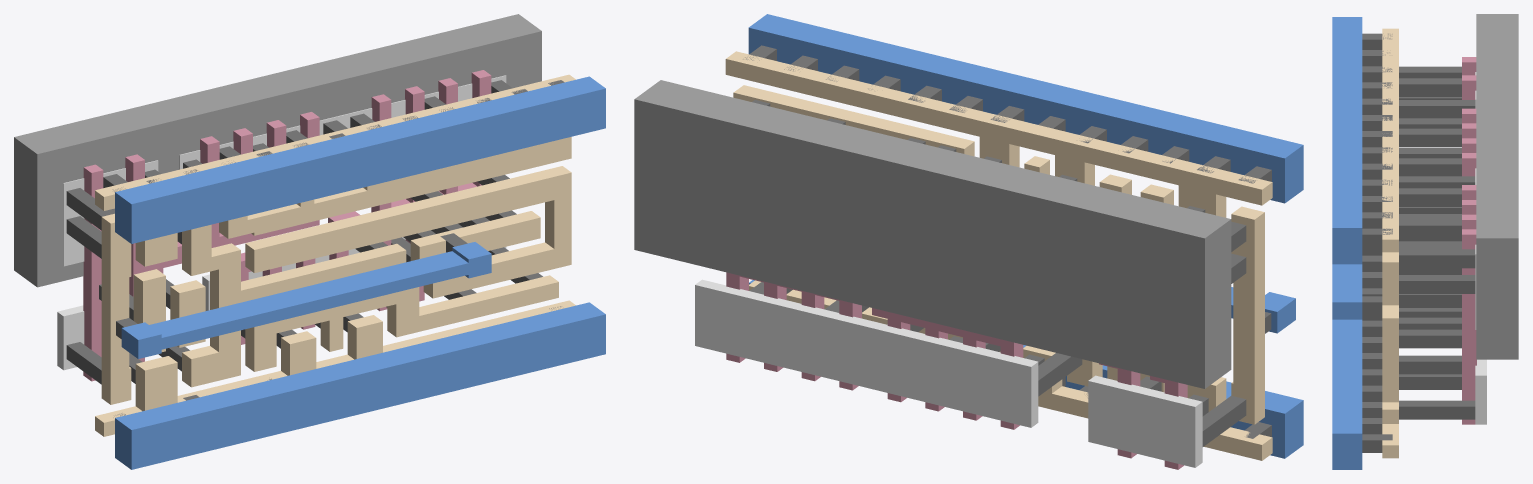
File: sky130_fd_sc_hd__ebufn_4.gds.gltf
3 renders of one model, left to right at view 1: azimuth 30°, elevation 25°; view 2: azimuth 150°, elevation 25°; view 3: azimuth 270°, elevation 25°, orthographic. The views are drawn at different scales.
Parts seen in each view (by area): view 1: sky130_fd_sc_hd__ebufn_4_met1, sky130_fd_sc_hd__ebufn_4_li1, sky130_fd_sc_hd__ebufn_4_nwell, sky130_fd_sc_hd__ebufn_4_poly, sky130_fd_sc_hd__ebufn_4_licon, sky130_fd_sc_hd__ebufn_4_diff, sky130_fd_sc_hd__ebufn_4_mcon; view 2: sky130_fd_sc_hd__ebufn_4_nwell, sky130_fd_sc_hd__ebufn_4_li1, sky130_fd_sc_hd__ebufn_4_diff, sky130_fd_sc_hd__ebufn_4_met1, sky130_fd_sc_hd__ebufn_4_poly, sky130_fd_sc_hd__ebufn_4_mcon, sky130_fd_sc_hd__ebufn_4_licon; view 3: sky130_fd_sc_hd__ebufn_4_licon, sky130_fd_sc_hd__ebufn_4_nwell, sky130_fd_sc_hd__ebufn_4_met1, sky130_fd_sc_hd__ebufn_4_mcon, sky130_fd_sc_hd__ebufn_4_li1, sky130_fd_sc_hd__ebufn_4_poly, sky130_fd_sc_hd__ebufn_4_diff.
Boxes of the visible parts, box(x1,y1,x2,y2) form: sky130_fd_sc_hd__ebufn_4_met1: box(115, 76, 605, 469); sky130_fd_sc_hd__ebufn_4_li1: box(95, 74, 575, 436); sky130_fd_sc_hd__ebufn_4_nwell: box(14, 14, 541, 287); sky130_fd_sc_hd__ebufn_4_poly: box(83, 70, 491, 381); sky130_fd_sc_hd__ebufn_4_licon: box(66, 80, 542, 384); sky130_fd_sc_hd__ebufn_4_diff: box(57, 75, 506, 370); sky130_fd_sc_hd__ebufn_4_mcon: box(112, 80, 564, 417); sky130_fd_sc_hd__ebufn_4_nwell: box(634, 80, 1231, 388); sky130_fd_sc_hd__ebufn_4_li1: box(725, 51, 1272, 460); sky130_fd_sc_hd__ebufn_4_diff: box(695, 279, 1202, 467); sky130_fd_sc_hd__ebufn_4_met1: box(748, 14, 1303, 458); sky130_fd_sc_hd__ebufn_4_poly: box(726, 272, 1187, 469); sky130_fd_sc_hd__ebufn_4_mcon: box(743, 45, 1271, 438); sky130_fd_sc_hd__ebufn_4_licon: box(749, 100, 1246, 446); sky130_fd_sc_hd__ebufn_4_licon: box(1399, 66, 1475, 419); sky130_fd_sc_hd__ebufn_4_nwell: box(1476, 14, 1518, 359); sky130_fd_sc_hd__ebufn_4_met1: box(1332, 17, 1362, 469); sky130_fd_sc_hd__ebufn_4_mcon: box(1362, 33, 1392, 452); sky130_fd_sc_hd__ebufn_4_li1: box(1382, 28, 1398, 458); sky130_fd_sc_hd__ebufn_4_poly: box(1462, 57, 1476, 424); sky130_fd_sc_hd__ebufn_4_diff: box(1475, 72, 1486, 424).
Size of the model in its own units: 6.36 by 3.2 by 2.24.
